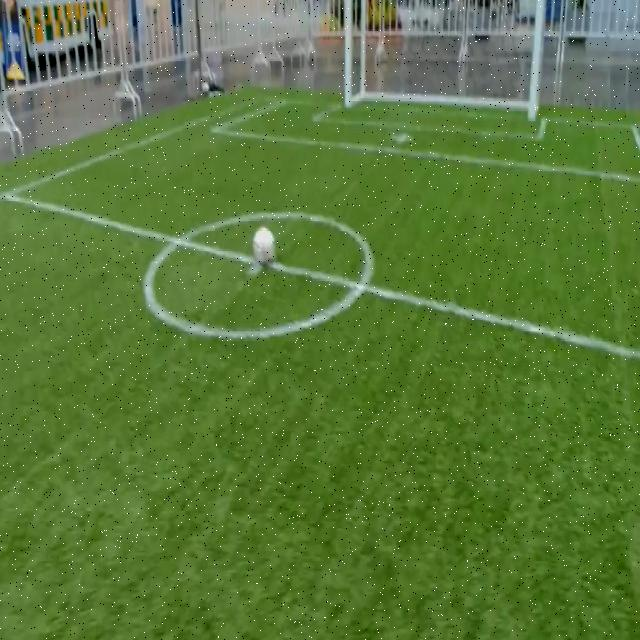ball: (253, 227, 275, 266)
goalpost: (524, 79, 541, 124), (342, 74, 358, 113)
